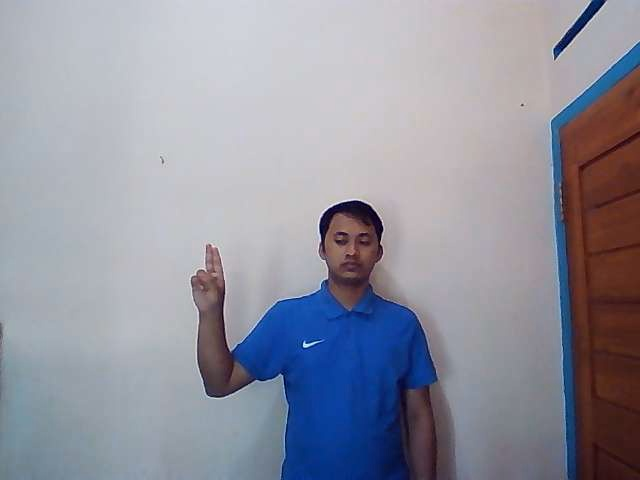U: (190, 243, 225, 312)
